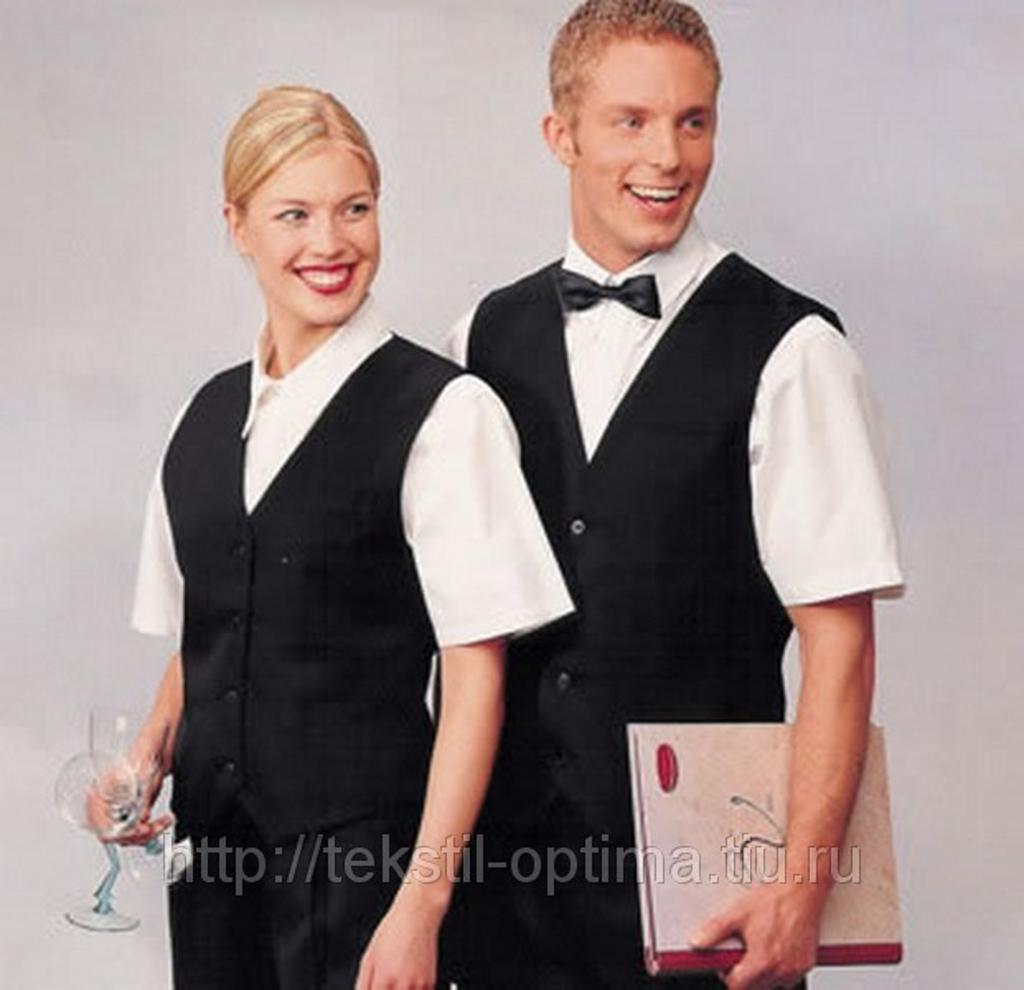face: (584, 26, 716, 252), (242, 146, 380, 326)
